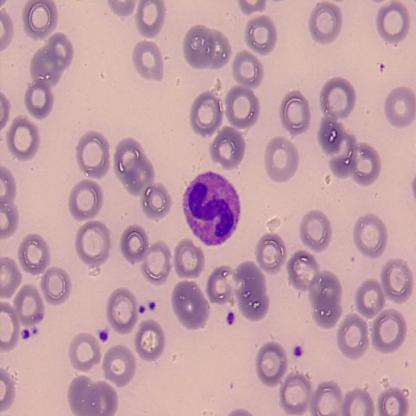Band Neutrophil: (181, 170, 242, 247)
